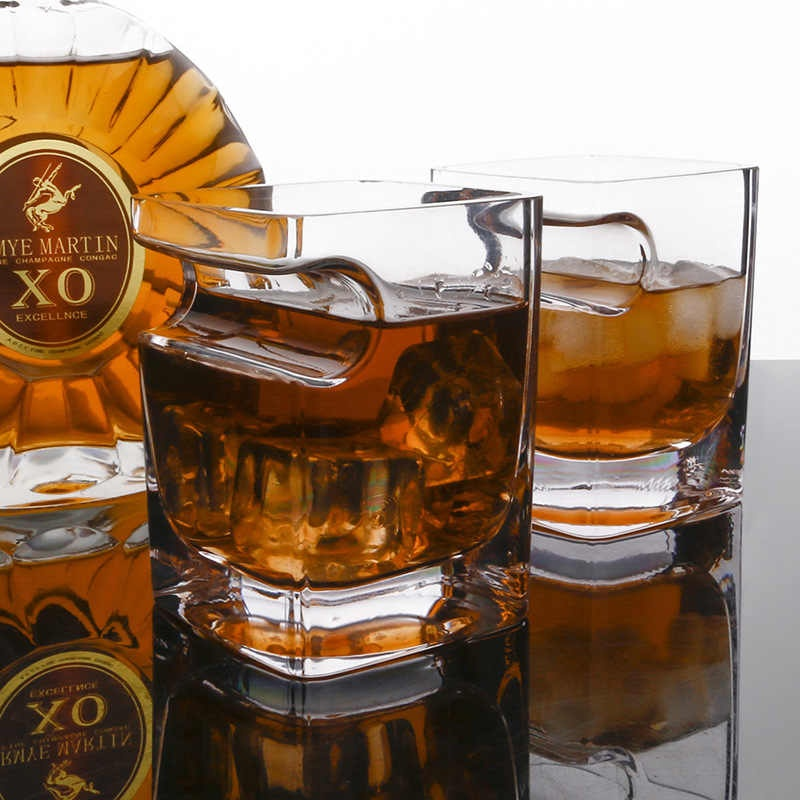whiskey: (134, 182, 530, 648), (539, 164, 766, 603)
